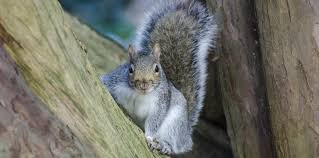squirrel: (106, 5, 211, 152)
